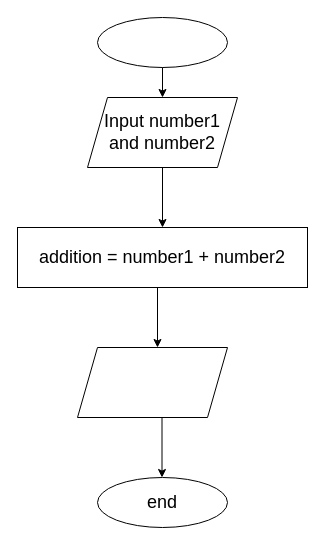
The diagram is 325 pixels wide and 545 high, and some of its shapes have lost their labels. The centre of each missing label's shape, as x and y in pixels:
print addition: [152,382]
Start: [162,42]
